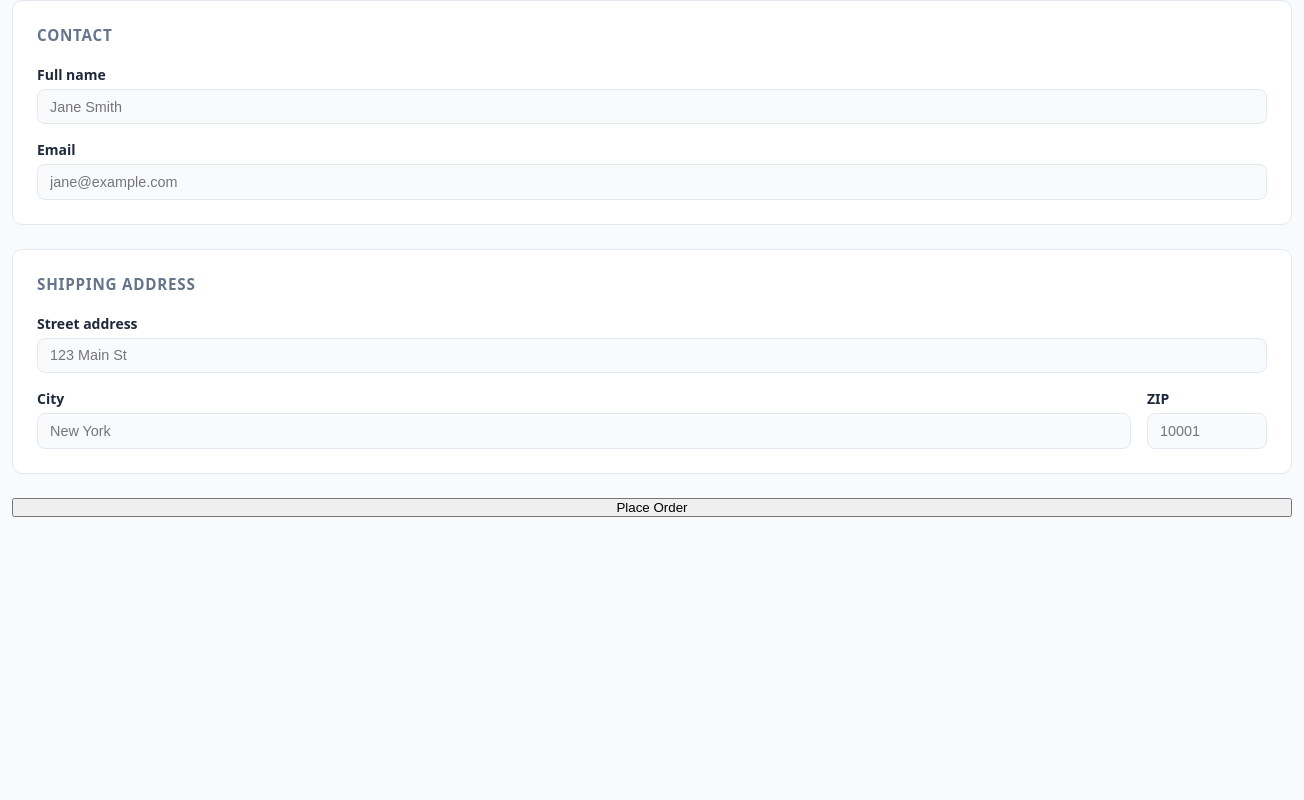
it: CheckoutForm › clears a field error when the user types in that field
Submit the form "Place Order"
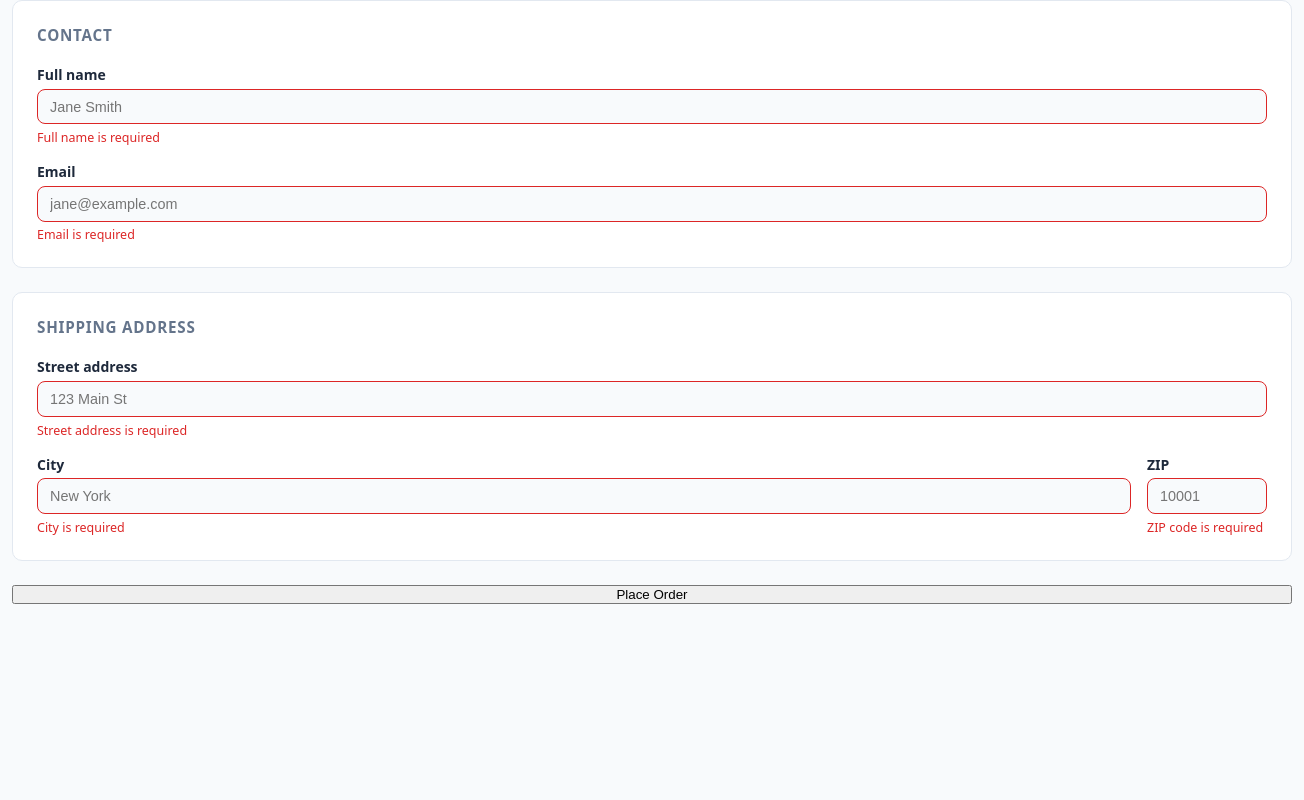
Expected: the text "Full name is required" is shown, [37,129,160,146]
Type "Jane" into the field labelled "Full name" at (652, 107), box [37,89,1267,124]
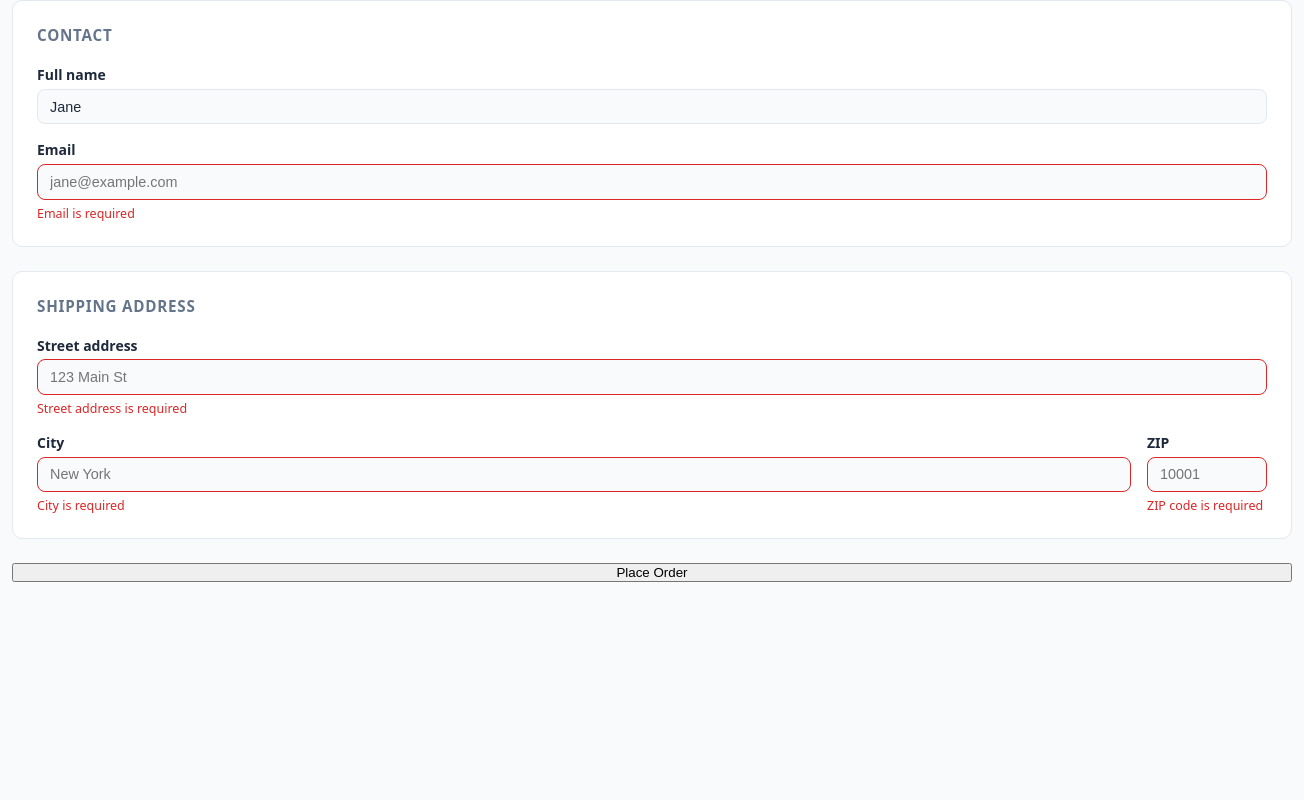
Expected: the text "Full name is required" is gone
